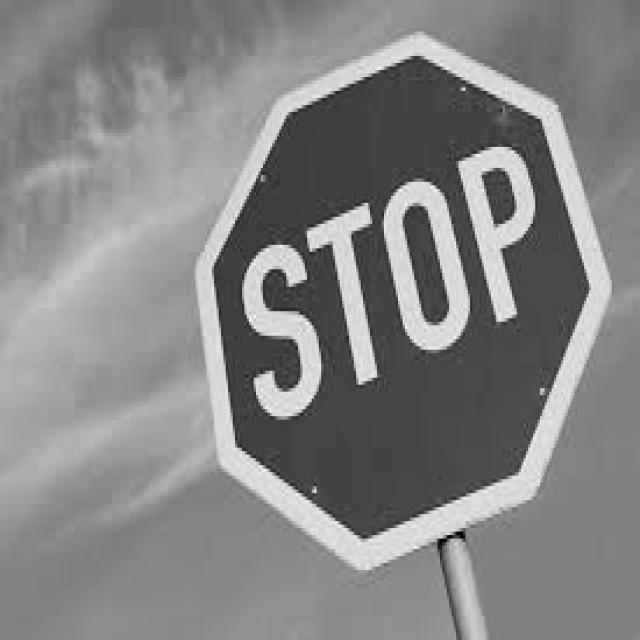stop sign: (206, 31, 619, 557)
